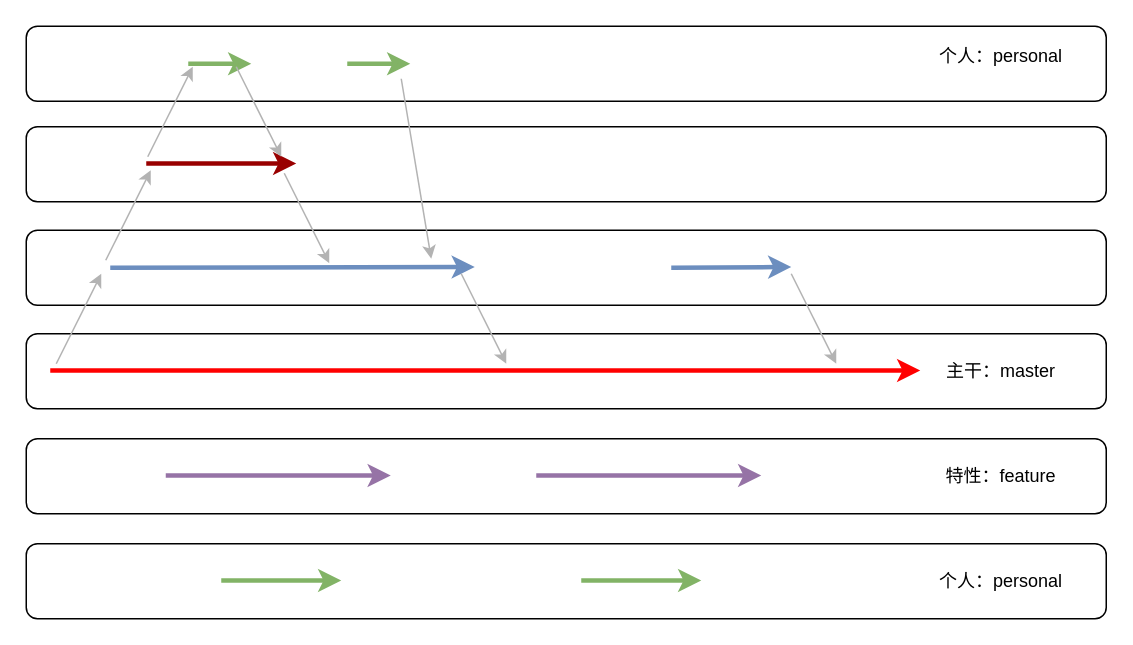
Some shapes in this 1133 by 645 pixel diagram are drawn without their labels. Here are the shapes that lost their labels. From the top down, the centre of each, then its label:
[565,163]: 问题修改：bugfix
[565,267]: 发布：release
